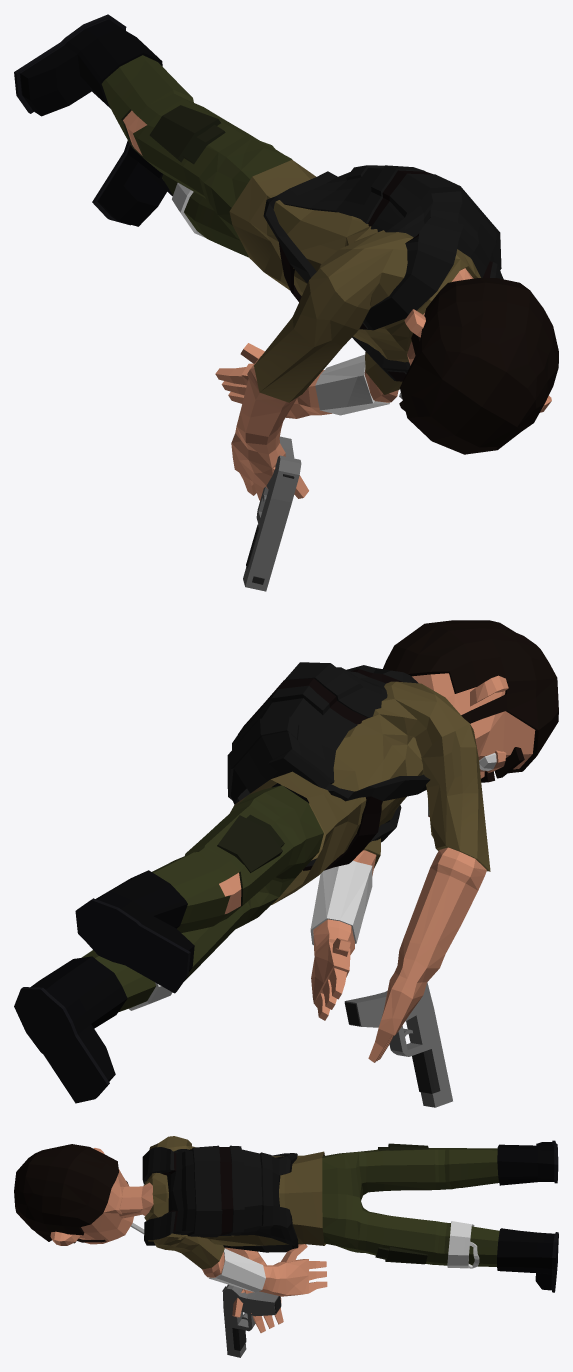
Rendered from frame_0008.obj.
3 views of the same model, one above another, from view 1: azimuth 30°, elevation 25°; view 2: azimuth 150°, elevation 25°; view 3: azimuth 270°, elevation 25° (orthographic). The views are drawn at different scales.
Visible parts, largest first — view 1: Body, Gun; view 2: Body, Gun; view 3: Body, Gun.
Part boxes in pixels (x1=…): Body: x1=14, y1=14, x2=558, y2=500; Gun: x1=243, y1=436, x2=301, y2=591; Body: x1=14, y1=620, x2=558, y2=1103; Gun: x1=344, y1=982, x2=452, y2=1107; Body: x1=14, y1=1136, x2=558, y2=1332; Gun: x1=222, y1=1284, x2=281, y2=1357.
Size of the model in its own units: 1.35 by 2.12 by 4.15.
